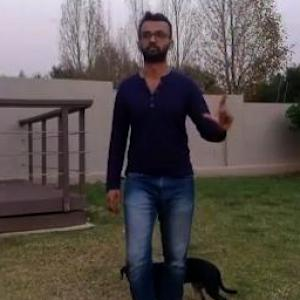land_hand: (200, 86, 237, 130)
